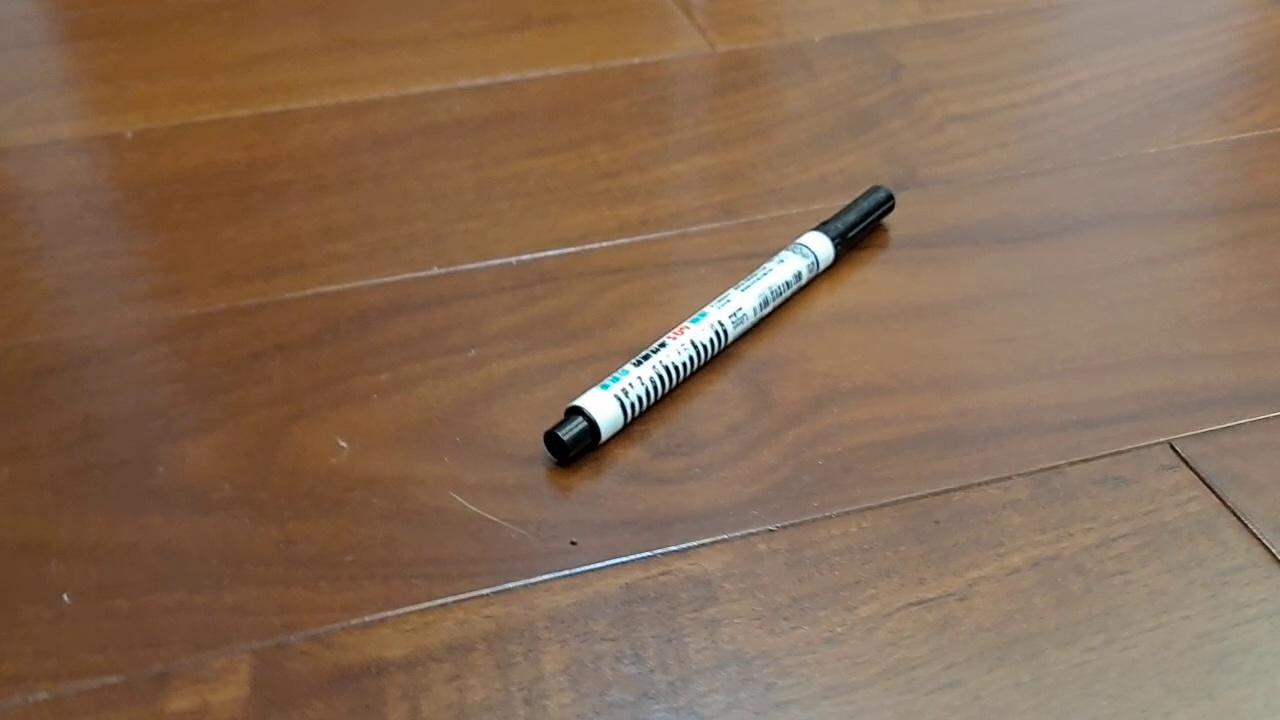pen: (543, 184, 896, 468)
